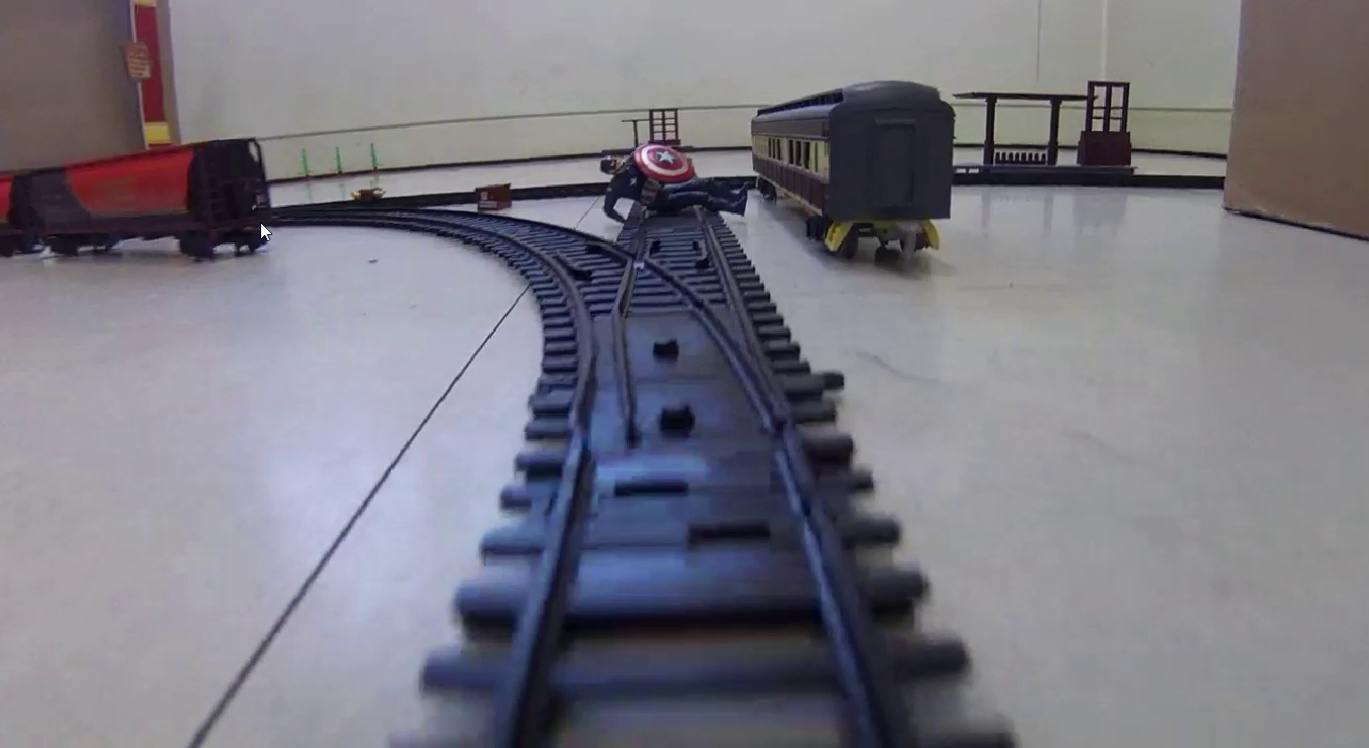people: (597, 147, 746, 214)
